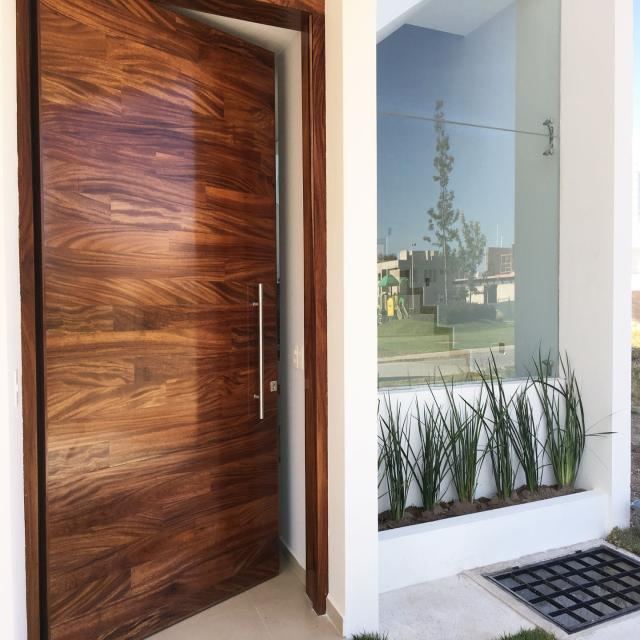door: (23, 0, 285, 639)
